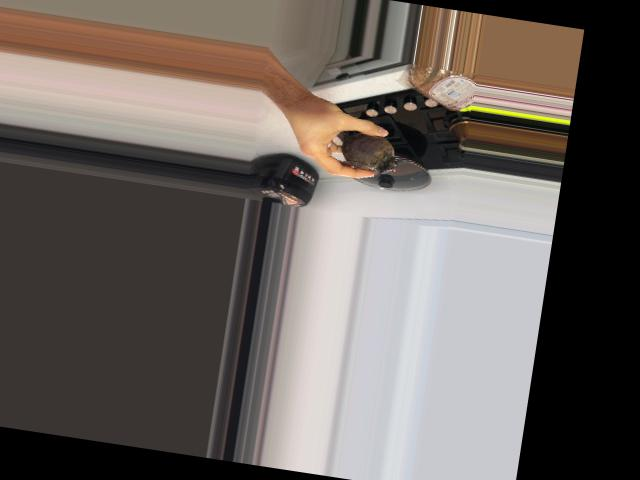beet: (336, 129, 401, 174)
